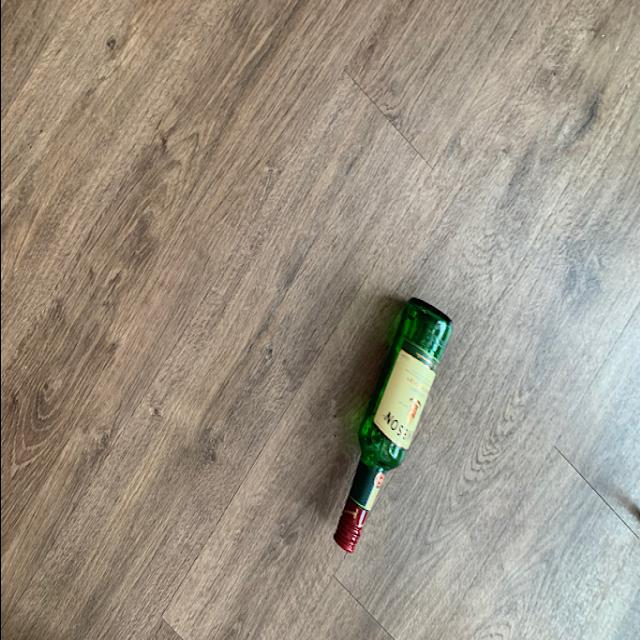Glass Bottle: (326, 295, 450, 557)
